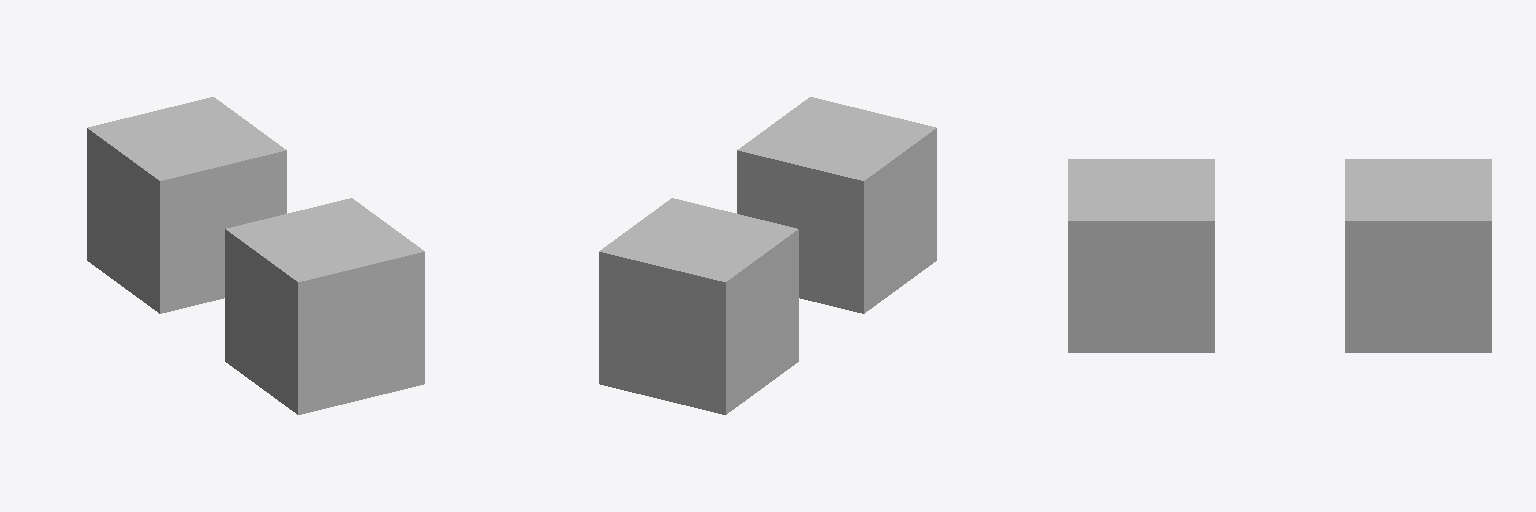
The model's file is cubes2.obj.
3 renders of one model, left to right at view 1: azimuth 30°, elevation 25°; view 2: azimuth 150°, elevation 25°; view 3: azimuth 270°, elevation 25°, orthographic.
Visible parts, largest first — view 1: Cube_Cube.001, Cube.001_Cube.002; view 2: Cube.001_Cube.002, Cube_Cube.001; view 3: Cube.001_Cube.002, Cube_Cube.001.
Part boxes in pixels (bbox=[...]): Cube_Cube.001: bbox=[225, 198, 424, 414]; Cube.001_Cube.002: bbox=[87, 97, 286, 313]; Cube.001_Cube.002: bbox=[599, 198, 798, 414]; Cube_Cube.001: bbox=[737, 97, 936, 313]; Cube.001_Cube.002: bbox=[1345, 159, 1491, 352]; Cube_Cube.001: bbox=[1068, 159, 1214, 352].
Size of the model in its own units: 2 by 2 by 5.77.